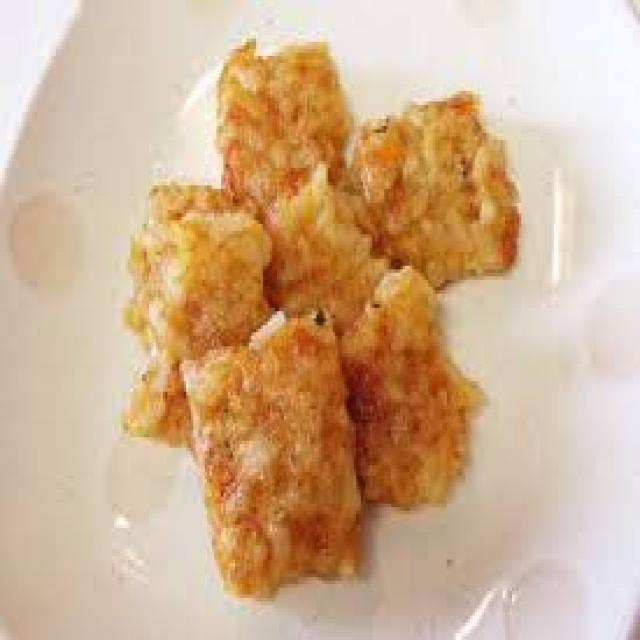organic waste: (177, 308, 363, 602), (121, 178, 272, 444), (333, 258, 484, 511), (352, 87, 516, 290), (214, 35, 347, 213), (261, 157, 388, 336)
